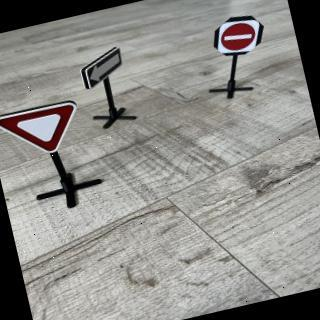sign_noentry: (212, 14, 268, 61)
sign_oneway_left: (78, 46, 129, 92)
sign_yield: (1, 98, 89, 166)
